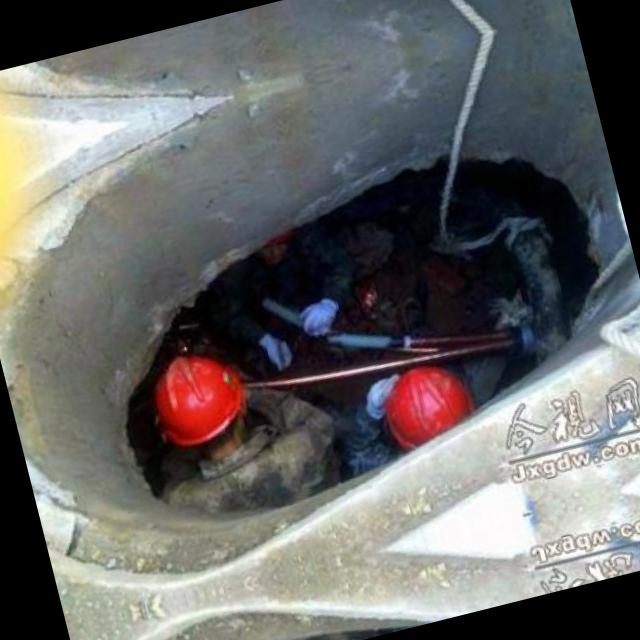helmet: (143, 341, 270, 470), (356, 348, 492, 466)
